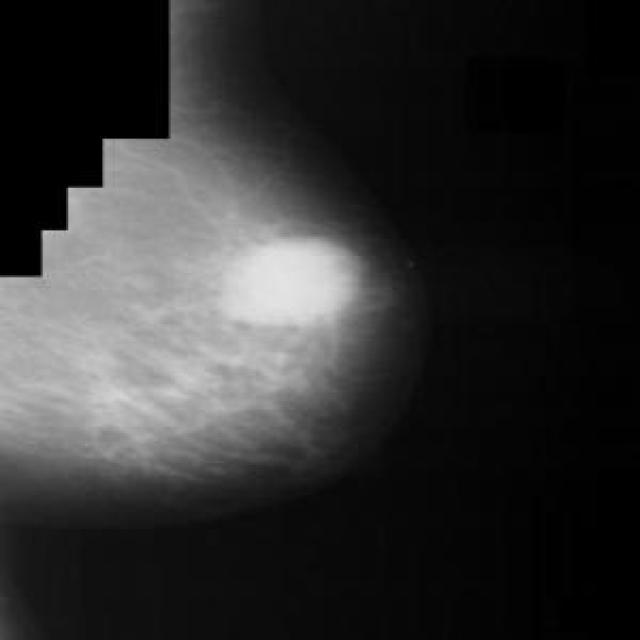tumor: (222, 226, 380, 344)
